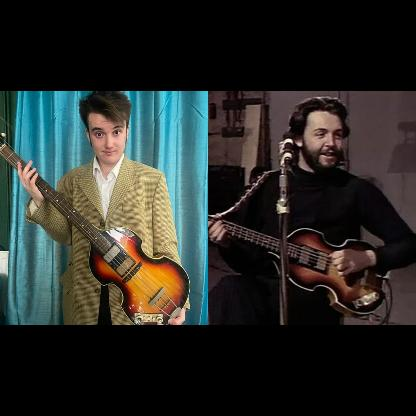bass: (0, 133, 192, 325), (208, 214, 390, 318)
